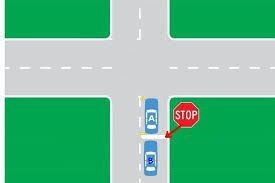SS: (172, 102, 198, 128)
